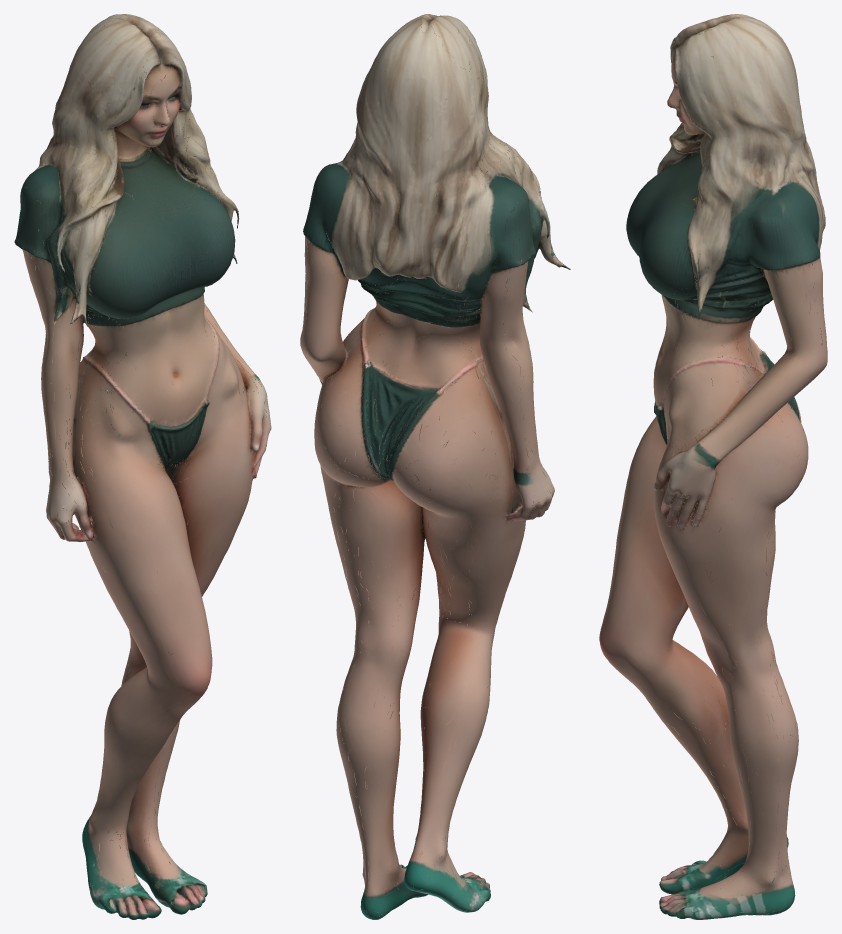
Rendered from helen.glb.
3 renders of one model, left to right at view 1: azimuth 30°, elevation 25°; view 2: azimuth 150°, elevation 25°; view 3: azimuth 270°, elevation 25°, orthographic.
Visible parts, largest first — view 1: Object_4, Object_5, Object_6; view 2: Object_4, Object_5; view 3: Object_4, Object_5, Object_6.
Boxes of the visible parts, left/top/right/bottom form: Object_4: left=14, top=15, right=271, bottom=919; Object_5: left=14, top=14, right=271, bottom=917; Object_6: left=46, top=29, right=247, bottom=899; Object_4: left=300, top=14, right=570, bottom=919; Object_5: left=300, top=14, right=552, bottom=917; Object_4: left=599, top=14, right=822, bottom=919; Object_5: left=666, top=14, right=827, bottom=919; Object_6: left=692, top=22, right=713, bottom=919.
Size of the model in its own units: 0.5311 by 2 by 0.4694.
Materials: 1 (1 with a texture image).
